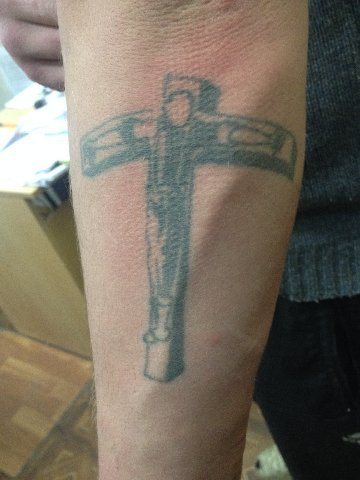tatu9_krest: (74, 69, 303, 393)
